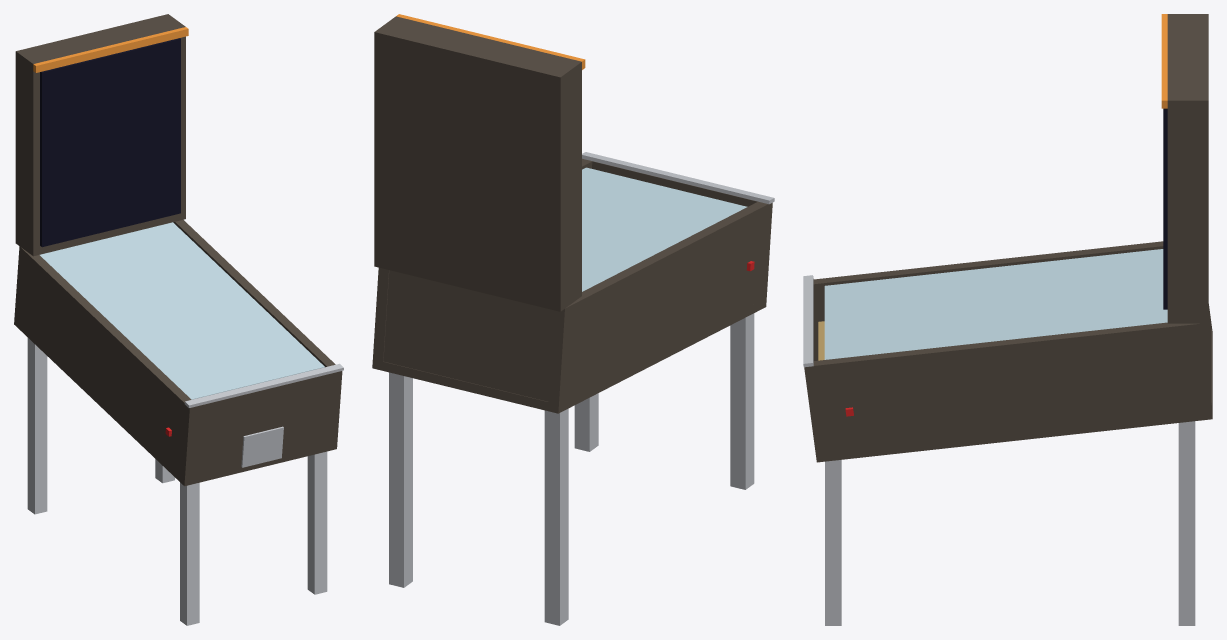
Rendered from cabinet_body_blockout.obj.
3 views of the same model, side by side, from view 1: azimuth 30°, elevation 25°; view 2: azimuth 150°, elevation 25°; view 3: azimuth 270°, elevation 25° (orthographic). The views are drawn at different scales.
Visible parts, largest first — view 1: Backglass, Glass, SideWall_L, FrontWall, Backbox, Leg_BL, Leg_FR, Leg_FL, SideWall_R, Backbox_lightstrip, LockdownBar, CoinDoor (+1 smaller); view 2: Backbox, SideWall_L, BackWall, Glass, Leg_BL, Leg_BR, Leg_FL, Body_floor, FrontWall, LockdownBar, Leg_FR, SideWall_R (+1 smaller); view 3: SideWall_R, Glass, Backbox, Leg_BR, Body_floor, SideWall_L, Leg_FR, Backglass, LockdownBar, FrontWall, Backbox_lightstrip.
Boxes of the visible parts, left/top/right/bottom form: Backglass: left=40, top=38, right=180, bottom=247; Glass: left=40, top=222, right=324, bottom=399; SideWall_L: left=14, top=246, right=198, bottom=486; FrontWall: left=180, top=371, right=341, bottom=485; Backbox: left=15, top=14, right=185, bottom=256; Leg_BL: left=27, top=338, right=47, bottom=514; Leg_FR: left=307, top=451, right=327, bottom=594; Leg_FL: left=180, top=482, right=199, bottom=625; SideWall_R: left=173, top=219, right=342, bottom=450; Backbox_lightstrip: left=33, top=27, right=188, bottom=72; LockdownBar: left=184, top=363, right=343, bottom=407; CoinDoor: left=241, top=426, right=283, bottom=467; Backbox: left=374, top=16, right=581, bottom=311; SideWall_L: left=548, top=201, right=772, bottom=413; BackWall: left=383, top=270, right=568, bottom=402; Glass: left=582, top=167, right=747, bottom=291; Leg_BL: left=544, top=408, right=568, bottom=625; Leg_BR: left=389, top=372, right=412, bottom=587; Leg_FL: left=730, top=313, right=754, bottom=489; Body_floor: left=382, top=298, right=766, bottom=413; FrontWall: left=592, top=161, right=772, bottom=308; LockdownBar: left=582, top=152, right=774, bottom=204; Leg_FR: left=574, top=393, right=598, bottom=451; SideWall_R: left=372, top=158, right=592, bottom=370; SideWall_R: left=804, top=322, right=1212, bottom=462; Glass: left=824, top=249, right=1167, bottom=359; Backbox: left=1167, top=14, right=1208, bottom=323; Leg_BR: left=1178, top=421, right=1195, bottom=625; Body_floor: left=816, top=329, right=1212, bottom=462; SideWall_L: left=813, top=241, right=1212, bottom=335; Leg_FR: left=825, top=460, right=841, bottom=625; Backglass: left=1163, top=108, right=1167, bottom=309; LockdownBar: left=803, top=275, right=813, bottom=367; FrontWall: left=805, top=289, right=825, bottom=461; Backbox_lightstrip: left=1161, top=14, right=1167, bottom=108.
Bounding box in the file's own units: 0.784 × 2.16 × 1.51.
